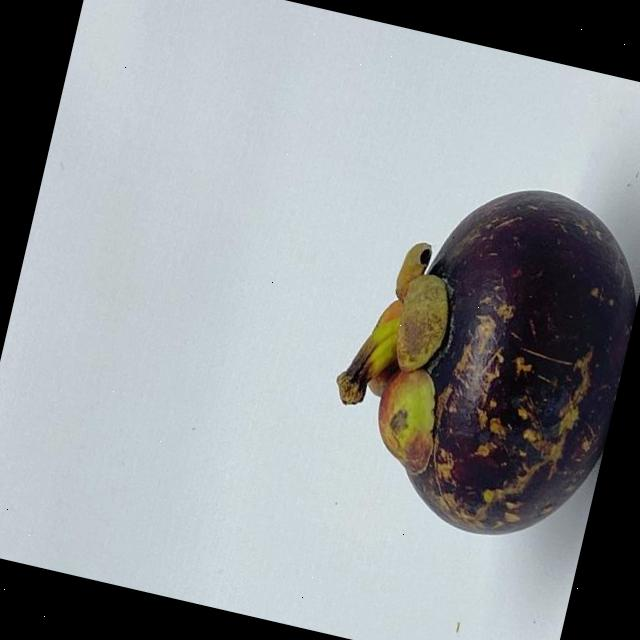mangosteen: (295, 136, 640, 563)
